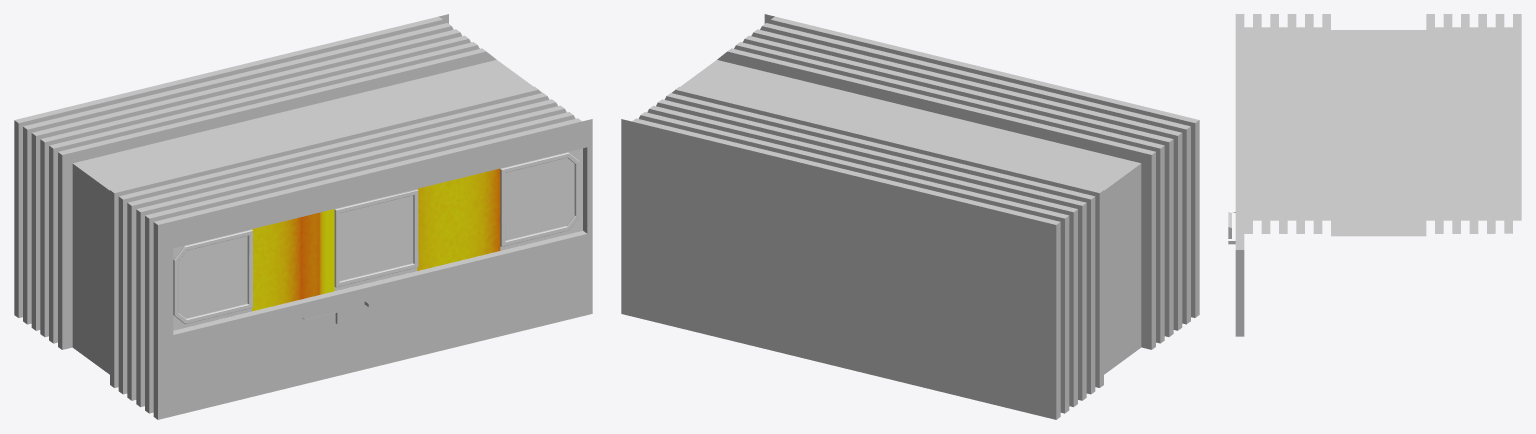
The picture shows the model from 3 angles, left to right: view 1: azimuth 30°, elevation 25°; view 2: azimuth 150°, elevation 25°; view 3: azimuth 270°, elevation 25°; orthographic projection.
Parts seen in each view (by area): view 1: wall4a_2x4.000_Cube.001; view 2: wall4a_2x4.000_Cube.001; view 3: wall4a_2x4.000_Cube.001.
Boxes of the visible parts, bbox=[...] form: wall4a_2x4.000_Cube.001: bbox=[14, 14, 592, 419]; wall4a_2x4.000_Cube.001: bbox=[621, 14, 1199, 419]; wall4a_2x4.000_Cube.001: bbox=[1228, 14, 1521, 336].
Bounding box in the file's own units: 2102 × 900 × 1231.
